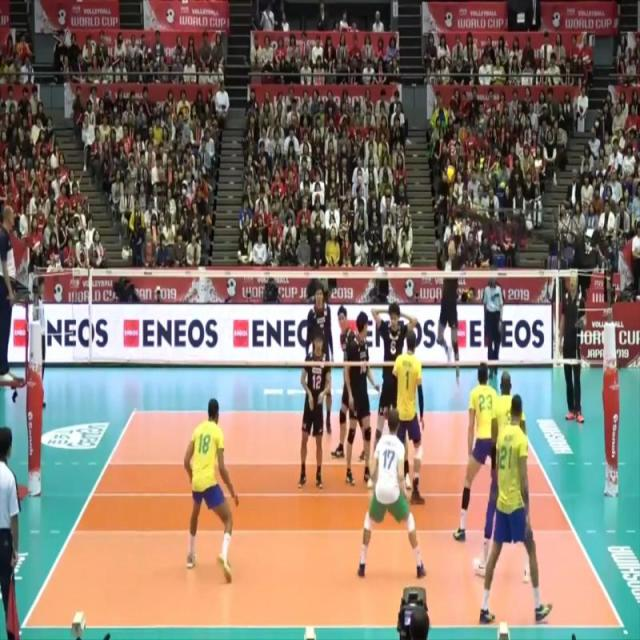volleyball: (445, 163, 457, 184)
